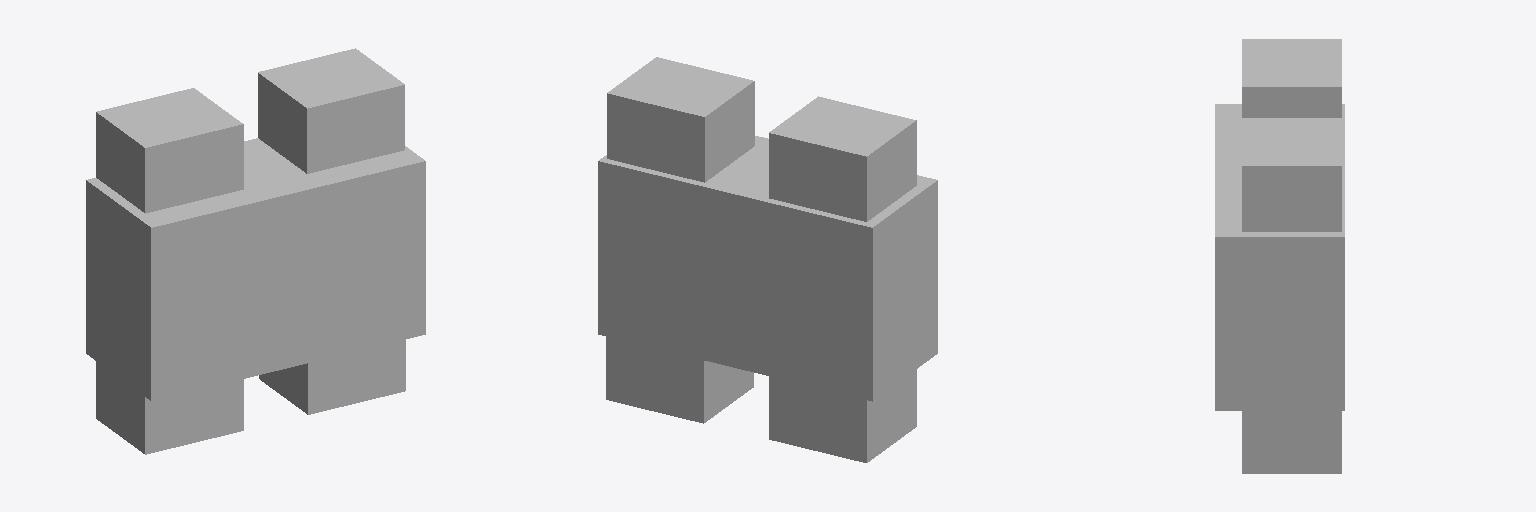
File: drone1baseSimple.obj
The picture shows the model from 3 angles: view 1: azimuth 30°, elevation 25°; view 2: azimuth 150°, elevation 25°; view 3: azimuth 270°, elevation 25°; orthographic projection.
Visible parts, largest first — view 1: Object.1, Object.3, Object.2, Object.4, Object.5; view 2: Object.1, Object.2, Object.3, Object.4, Object.5; view 3: Object.1, Object.2, Object.3, Object.5.
Boxes of the visible parts, x1,y1,x2,y2 form: Object.1: [86, 138, 425, 401]; Object.3: [96, 88, 243, 213]; Object.2: [258, 48, 404, 173]; Object.4: [96, 361, 243, 454]; Object.5: [259, 340, 405, 414]; Object.1: [598, 136, 937, 401]; Object.2: [607, 57, 754, 182]; Object.3: [769, 96, 916, 221]; Object.4: [769, 369, 916, 462]; Object.5: [606, 337, 753, 423]; Object.1: [1215, 104, 1344, 410]; Object.2: [1242, 118, 1341, 231]; Object.3: [1242, 39, 1341, 117]; Object.5: [1242, 411, 1341, 473].
Size of the model in its own units: 60.73 by 64.86 by 25.07.